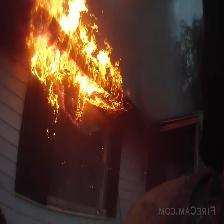fire: (24, 3, 132, 125)
